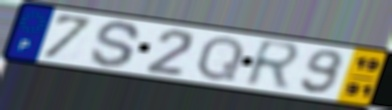2: (144, 28, 198, 79)
7: (43, 12, 97, 61)
9: (298, 49, 347, 96)
Q: (194, 34, 247, 82)
R: (242, 37, 304, 93)
S: (88, 19, 144, 70)
